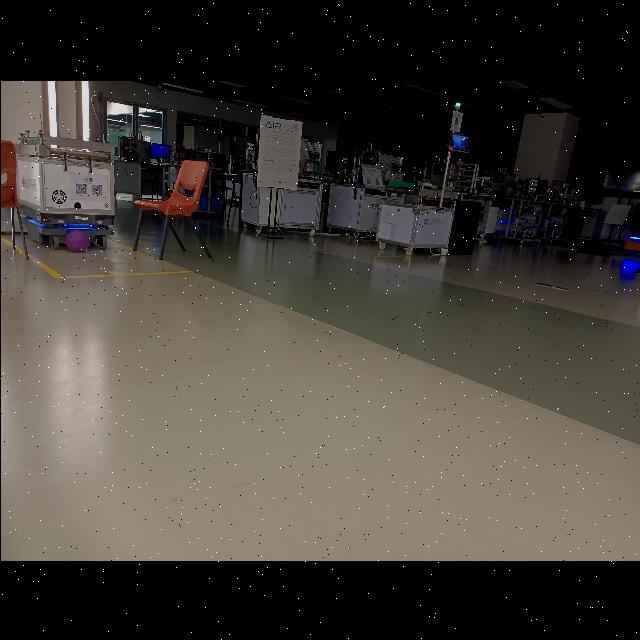P: (66, 230, 90, 252)
